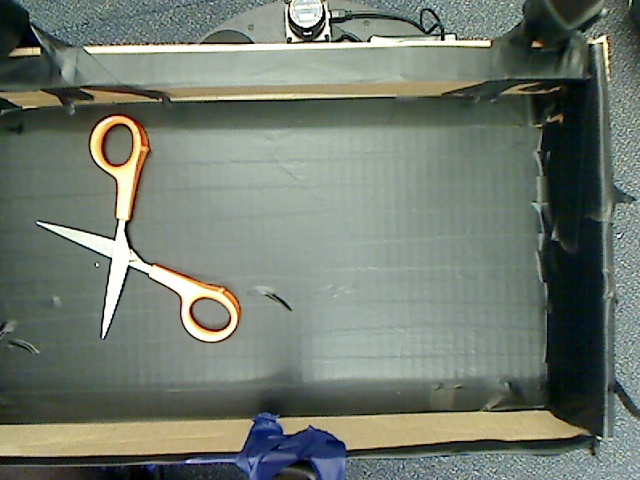scissors: (21, 110, 256, 373)
